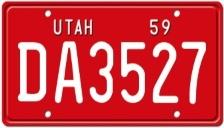2: (150, 41, 182, 105)
3: (87, 38, 117, 106)
5: (119, 40, 148, 105)
7: (181, 39, 209, 107)
A: (52, 39, 86, 106)
D: (16, 39, 49, 104)
